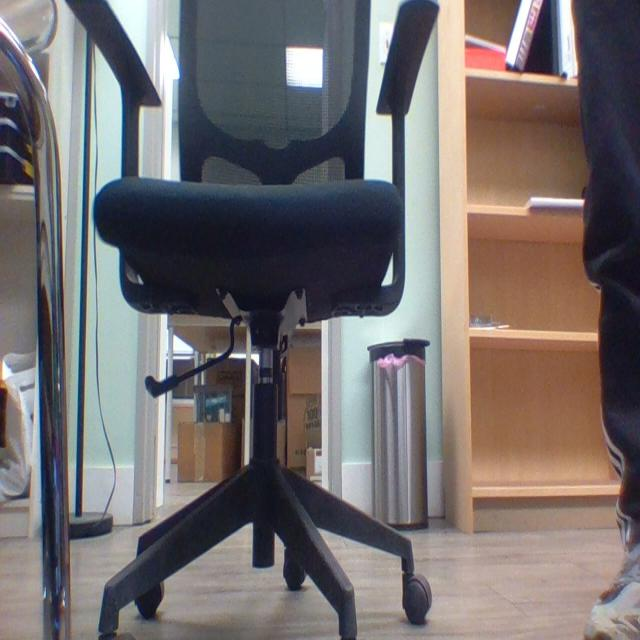black-chair: (60, 1, 442, 639)
